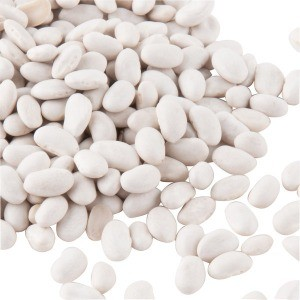beans_brain food: (31, 50, 179, 231)
